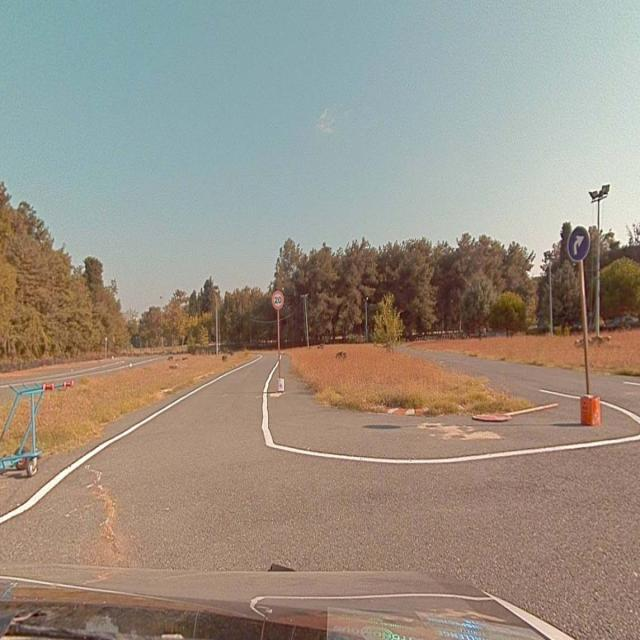20: (273, 290, 283, 308)
sag: (566, 227, 590, 262)
